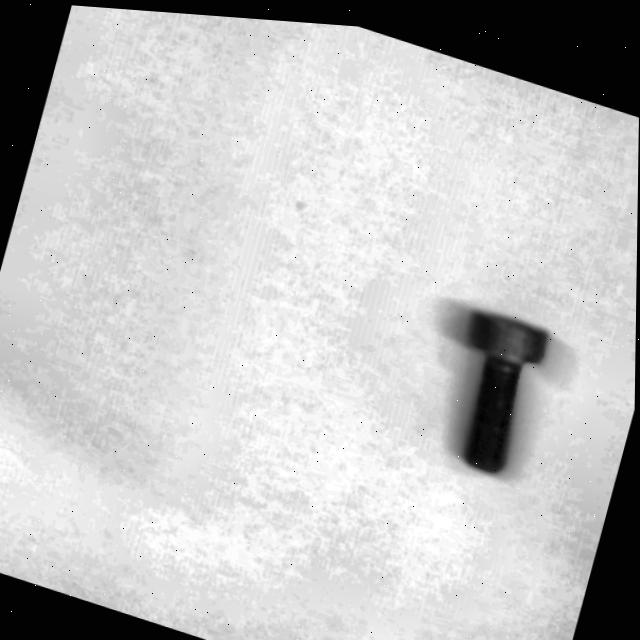Socket head cap screw: (427, 294, 553, 477)
